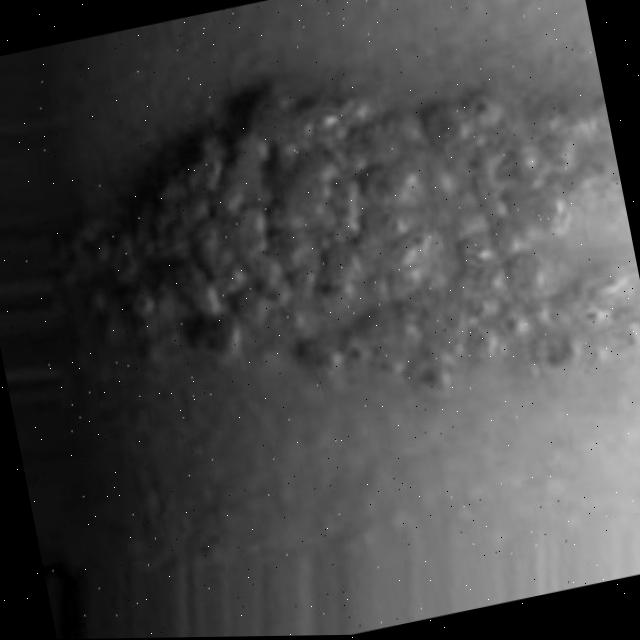Shingles: (65, 16, 640, 467)
